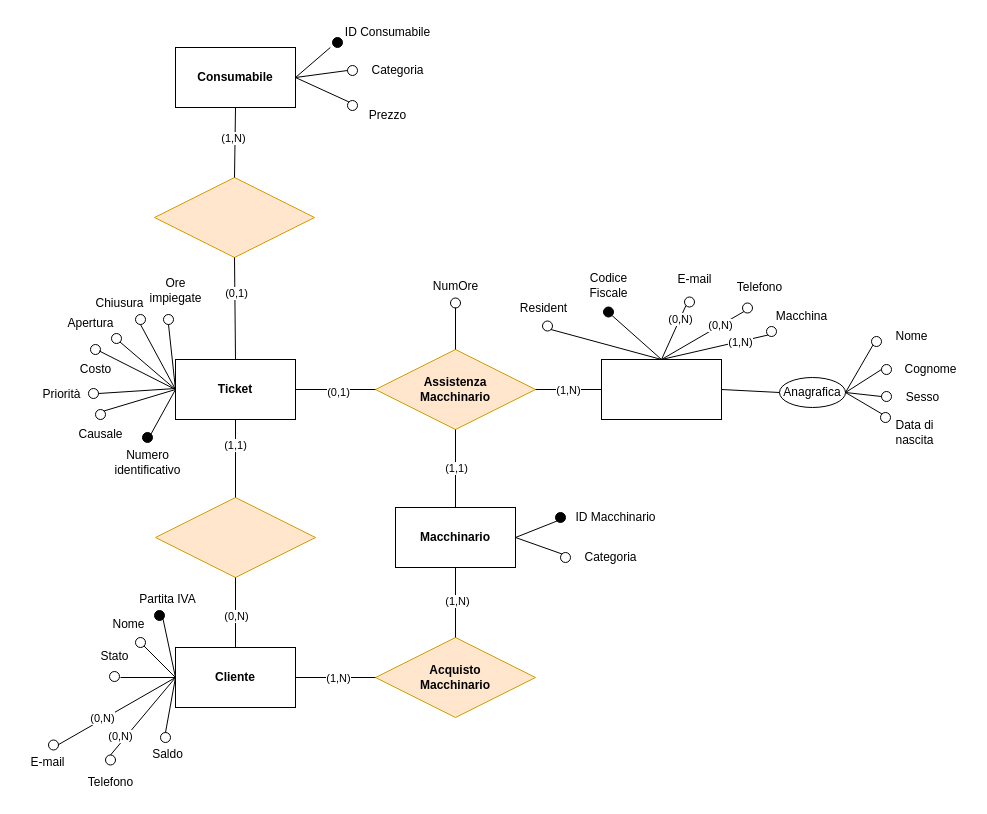
The diagram is 987 pixels wide and 814 high, and some of its shapes have lost their labels. The shapes that lost their labels are listed below. From the top down, each one's box as (x1, y1, x2, y2) in pixels, then its label:
(154, 176, 314, 258): Assistenza Consumabile
(600, 358, 722, 420): Tecnico
(154, 496, 316, 578): Generazione
